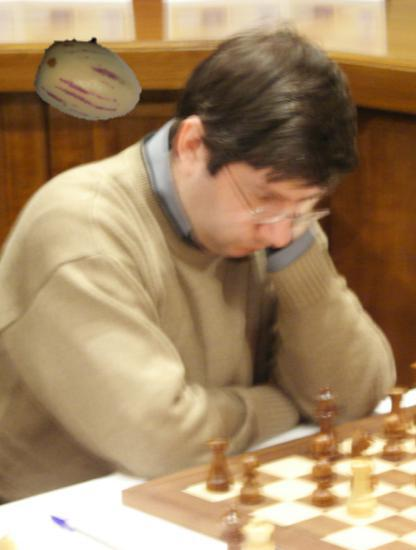Pepino: (34, 24, 143, 133)
